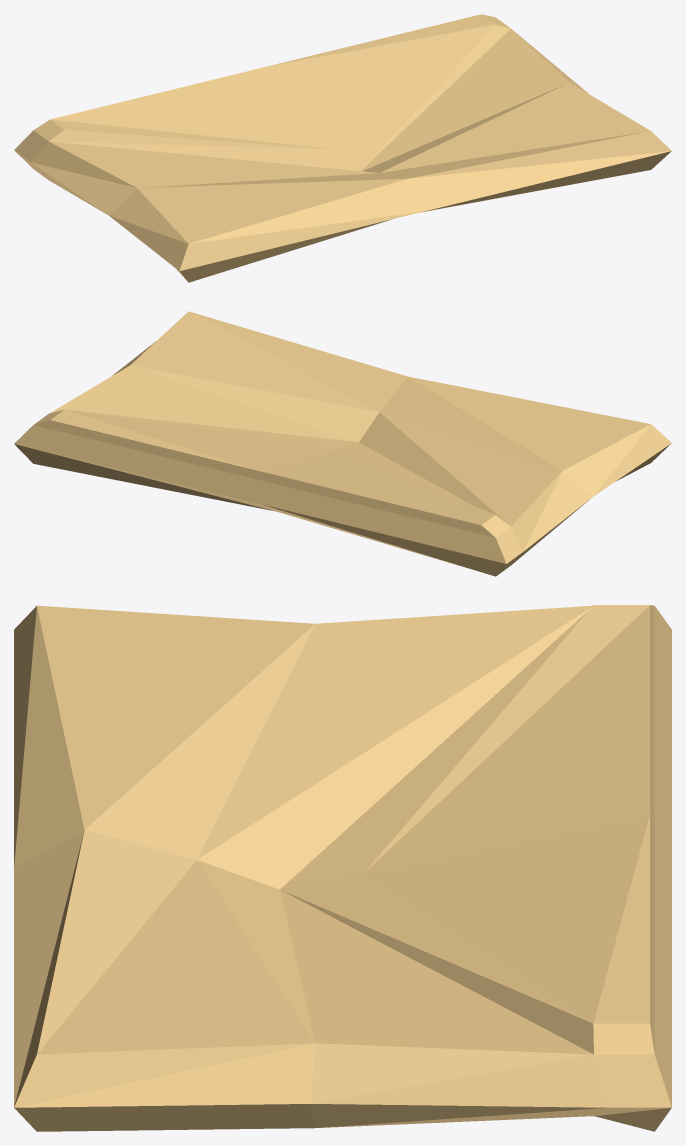
Rendered from Letter_001.fbx.
3 views of the same model, one above another, from view 1: azimuth 30°, elevation 25°; view 2: azimuth 150°, elevation 25°; view 3: azimuth 270°, elevation 25° (orthographic). The views are drawn at different scales.
Visible parts, largest first — view 1: Letter_001; view 2: Letter_001; view 3: Letter_001.
Part boxes in pixels (x1,y1,x2,y2): Letter_001: (14, 14, 671, 282); Letter_001: (14, 311, 671, 576); Letter_001: (14, 605, 671, 1131).
Bounding box in the file's own units: 0.1663 × 0.0151 × 0.0968.
